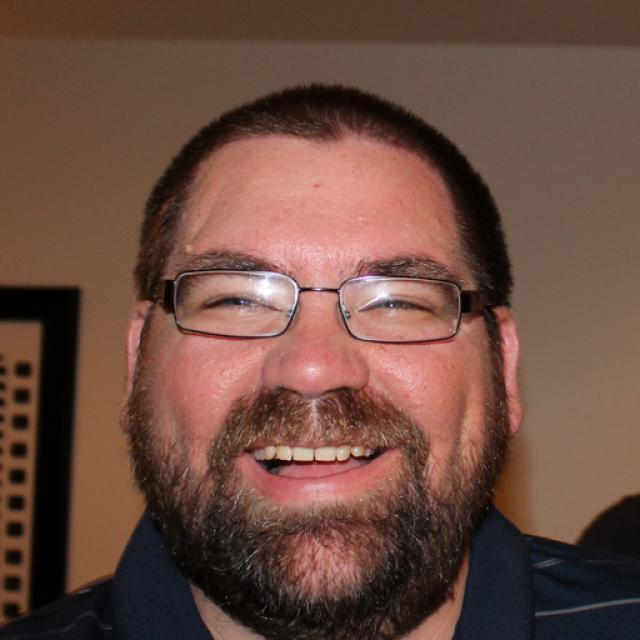Acne: (174, 235, 195, 261), (268, 345, 293, 365), (366, 339, 390, 359), (350, 210, 375, 225), (387, 402, 410, 417), (212, 364, 230, 383), (173, 208, 188, 226)
Spots: (306, 179, 326, 196)
